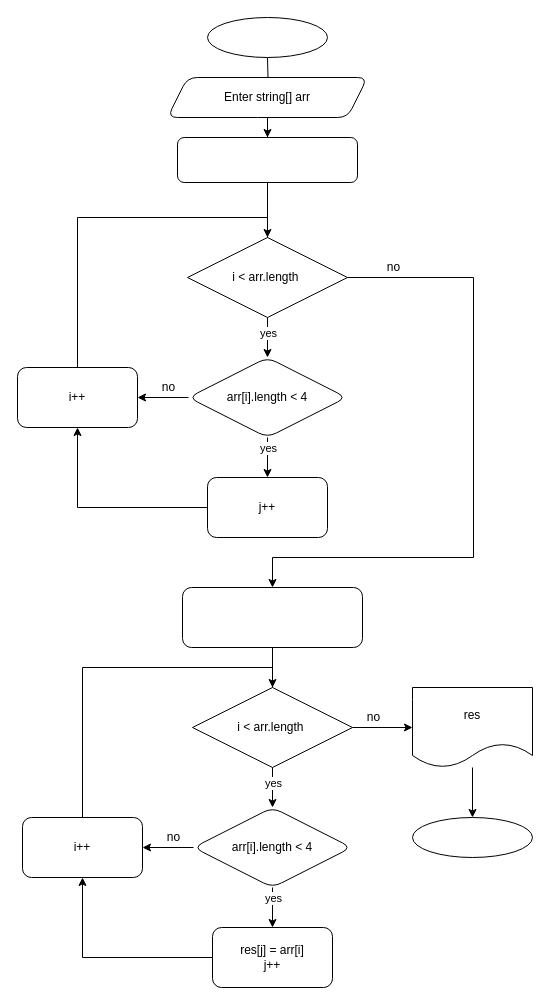
This 550x1005 diagram has some shape labels left out. The shapes that lost their labels are listed below. From the top down, each one's box as (x1, y1, x2, y2) in pixels, then its label:
(206, 16, 328, 58): Start
(176, 136, 358, 182): i = 0 j = 0
(182, 586, 362, 648): string[] res = new string[j] i = 0 j = 0
(412, 816, 532, 858): End
